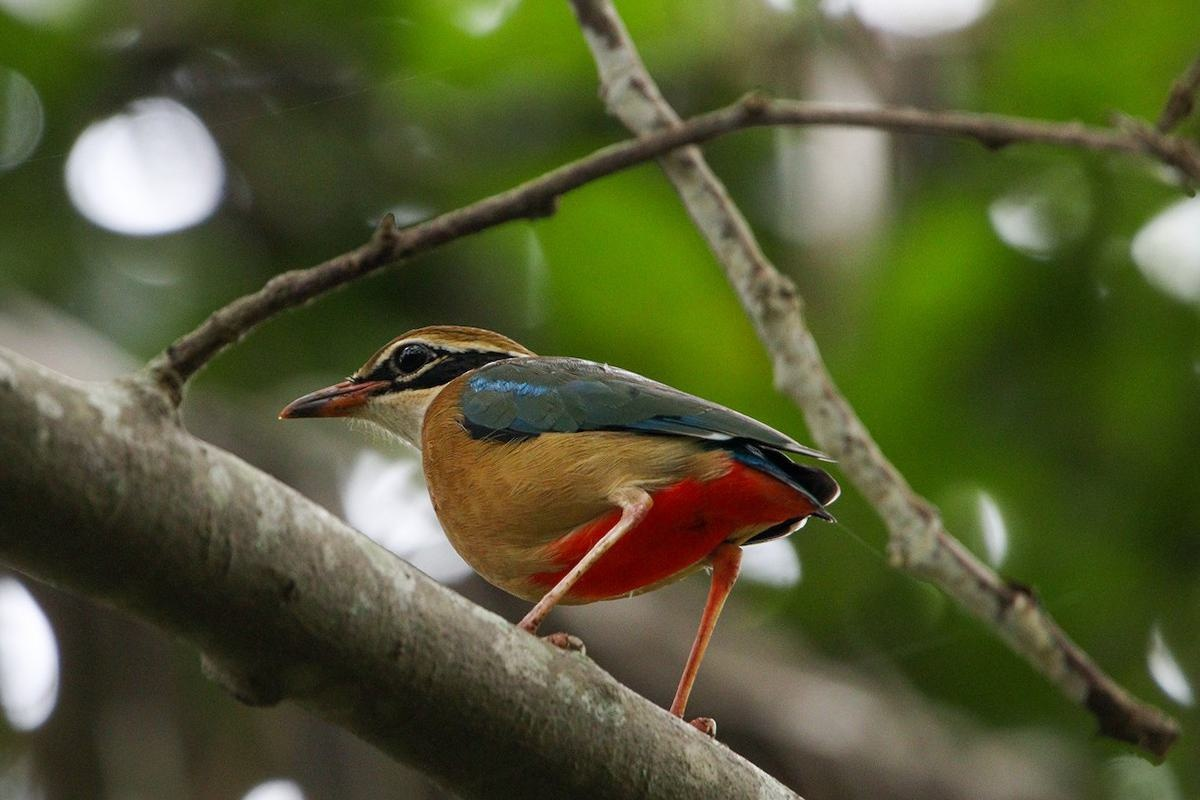pitta: (295, 265, 816, 730)
